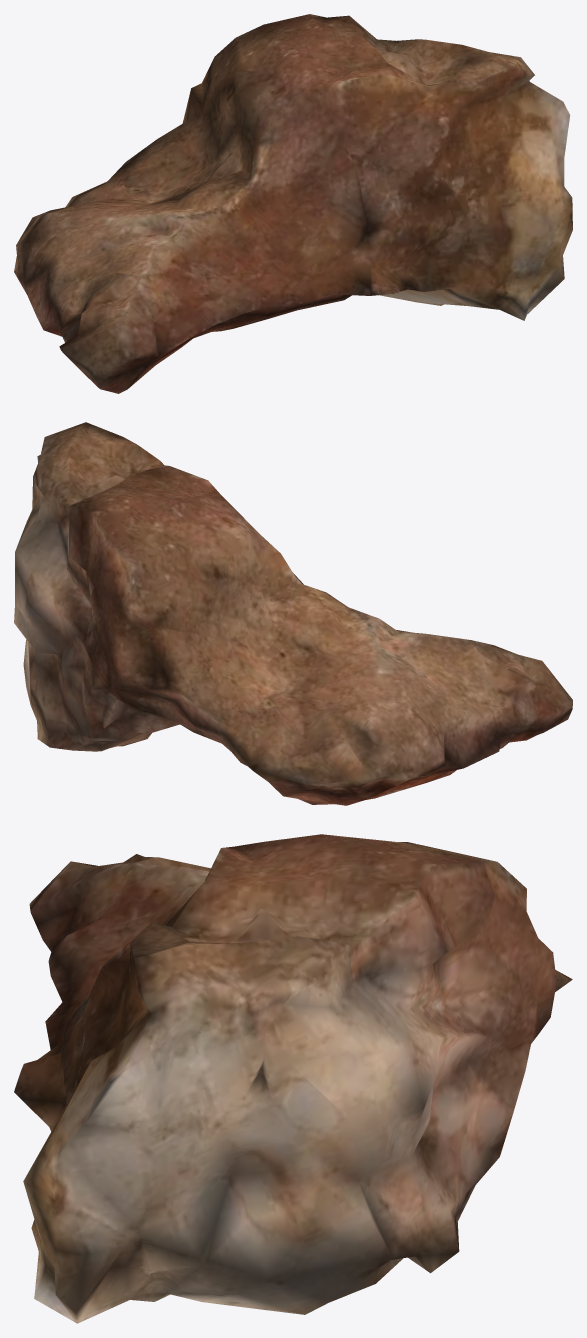
The model's file is stone_01.glb.
The picture shows the model from 3 angles, top to bottom: view 1: azimuth 30°, elevation 25°; view 2: azimuth 150°, elevation 25°; view 3: azimuth 270°, elevation 25°; orthographic projection. The views are drawn at different scales.
Parts seen in each view (by area): view 1: stone_01; view 2: stone_01; view 3: stone_01.
Part boxes in pixels (left/top/right/bottom): stone_01: left=14, top=14, right=572, bottom=393; stone_01: left=14, top=422, right=572, bottom=805; stone_01: left=14, top=834, right=572, bottom=1323.
Bounding box in the file's own units: 0.1462 × 0.071 × 0.0886.
Materials: 1 (1 with a texture image).
